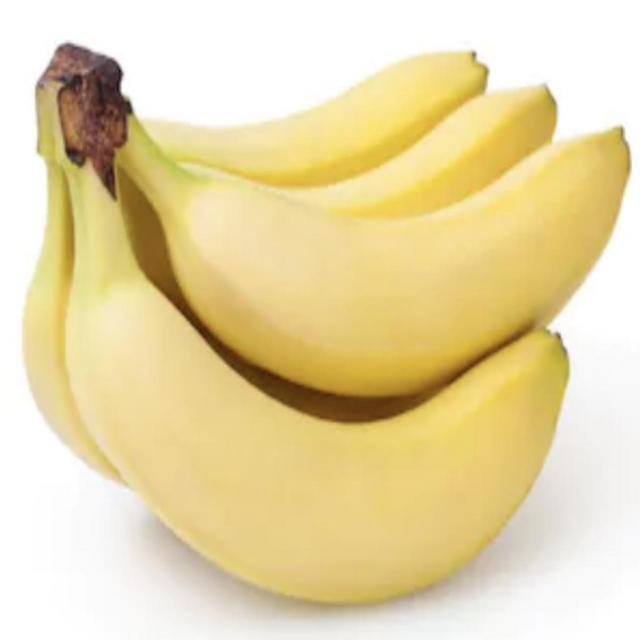banana: (51, 186, 638, 626), (154, 93, 638, 422)
